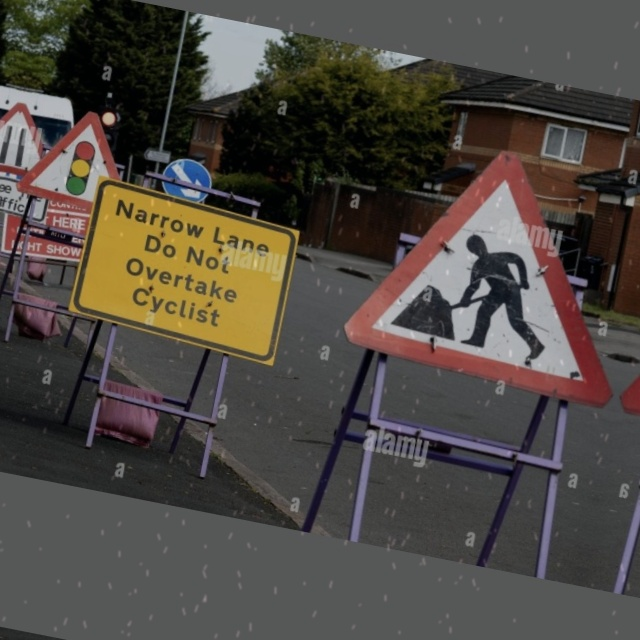Men_at_Work: (338, 111, 639, 412)
